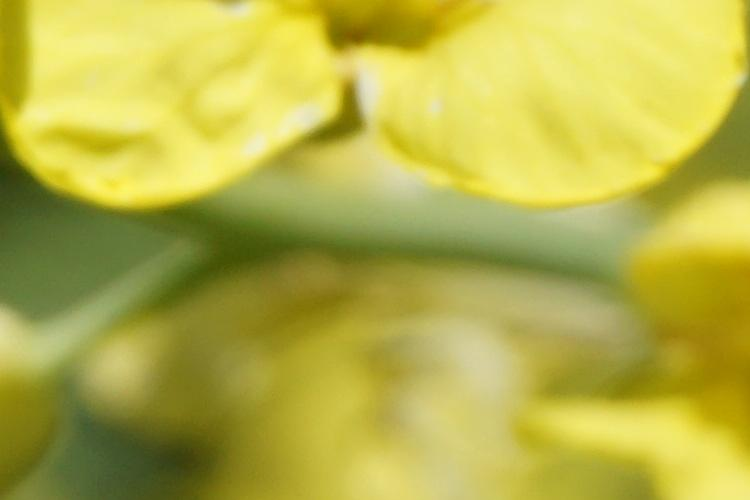yellow: (37, 1, 728, 205)
